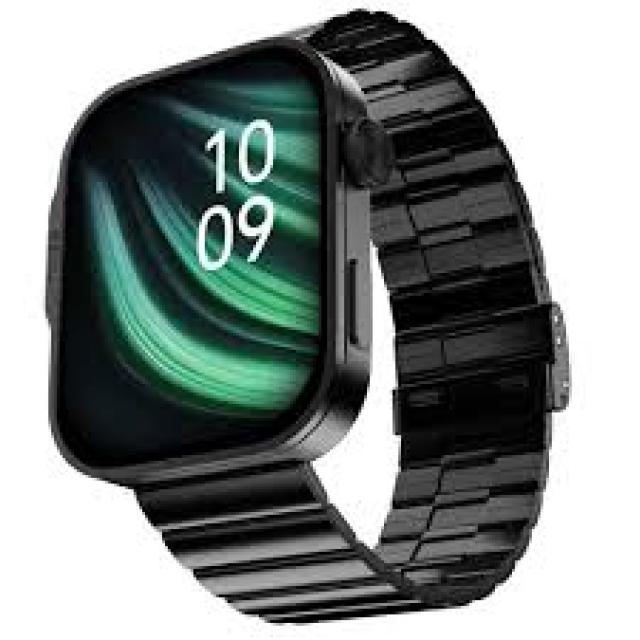objects: (46, 5, 566, 628)
